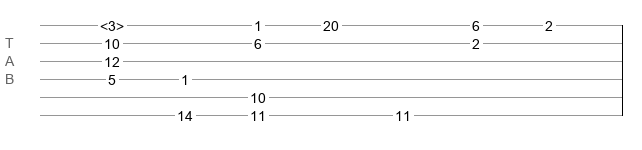1: (181, 72, 189, 82), (254, 18, 262, 28)
10: (104, 36, 120, 46), (250, 90, 266, 100)
11: (250, 108, 266, 118), (395, 108, 411, 118)
12: (104, 54, 120, 64)
14: (177, 108, 193, 118)
2: (472, 36, 480, 46), (545, 18, 553, 28)
20: (323, 18, 339, 28)
5: (108, 72, 116, 82)
6: (254, 36, 262, 46), (472, 18, 480, 28)
harmonic: (100, 18, 124, 28)
